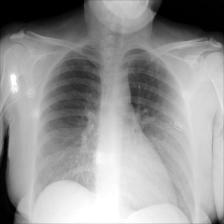normal: (31, 37, 196, 224)
